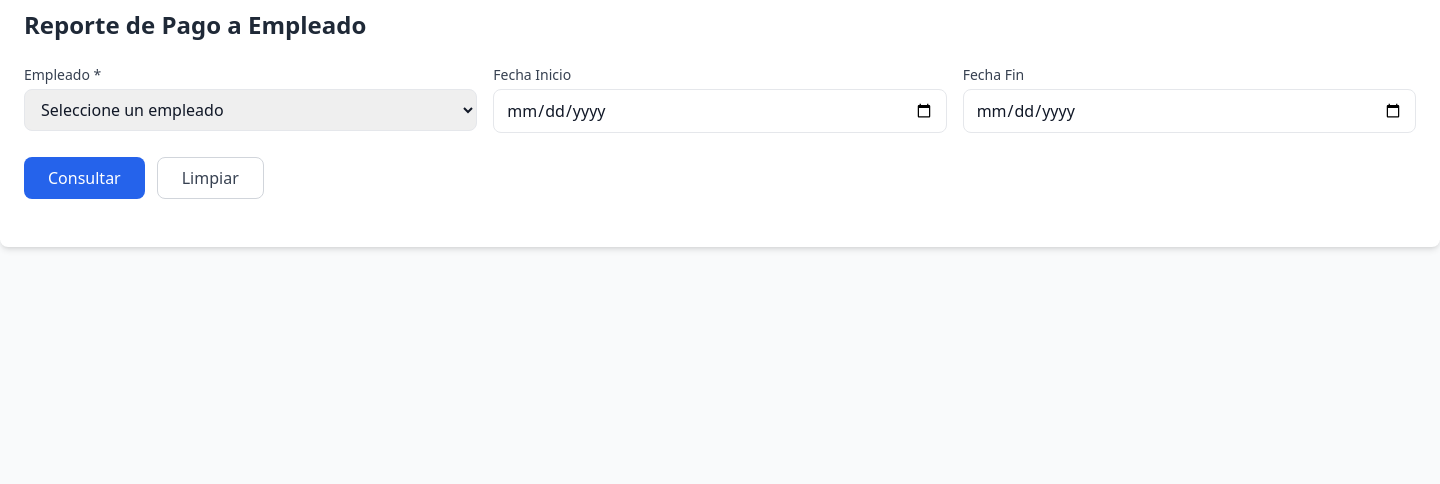
Scenario: PagoEmpleadoReport › muestra mensaje cuando no hay servicios
Select "Juan Pérez" in the dropdown at (251, 110), box [24,89,477,131]
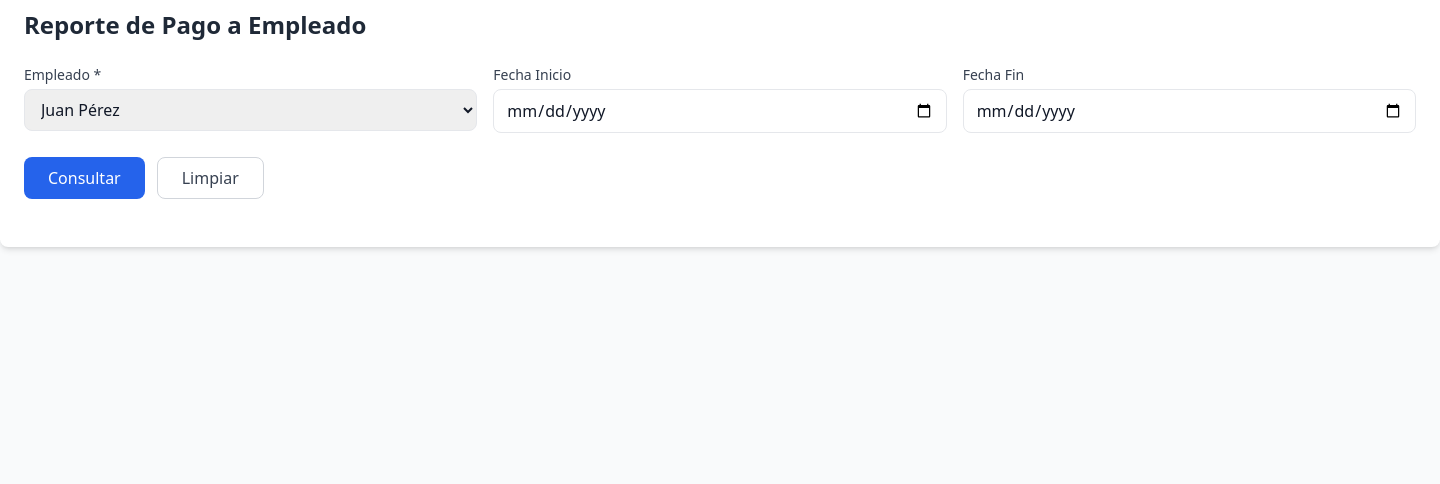
Click the button "Consultar" at (84, 178), box [24,157,145,199]
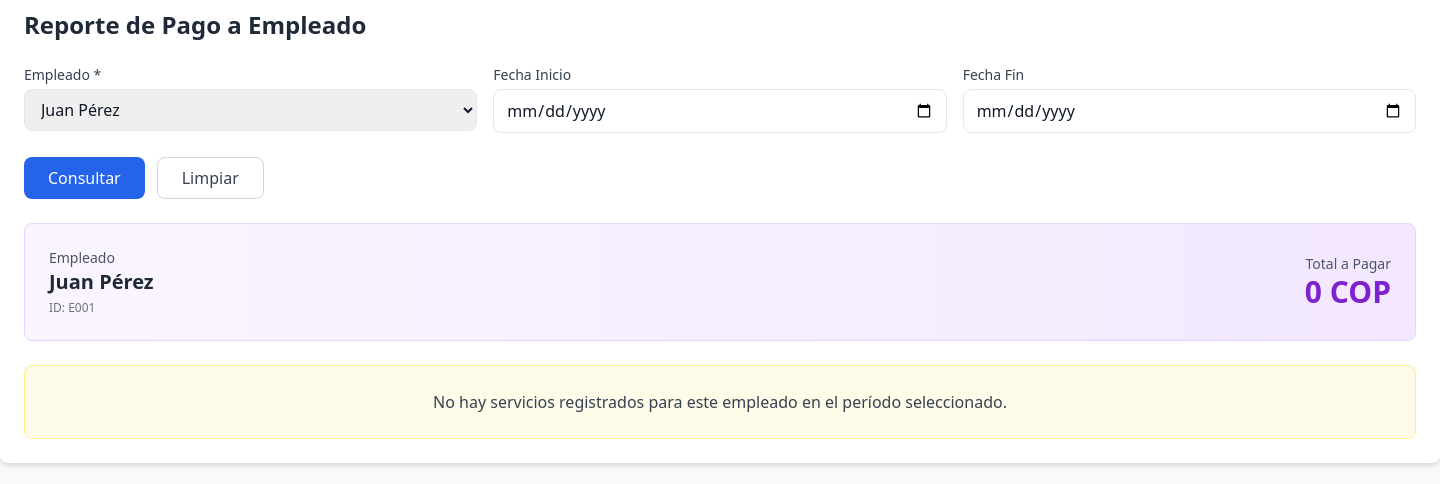
Expected: the text "No hay servicios registrados" is shown, [433,391,1007,413]
